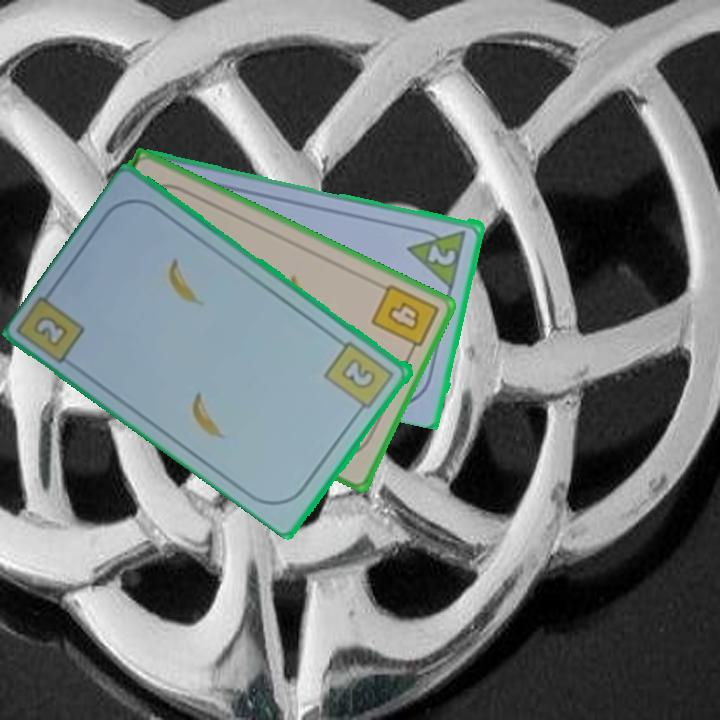2b: (321, 337, 398, 418), (30, 312, 72, 350)
2p: (405, 222, 470, 289)
4b: (367, 280, 442, 359)
